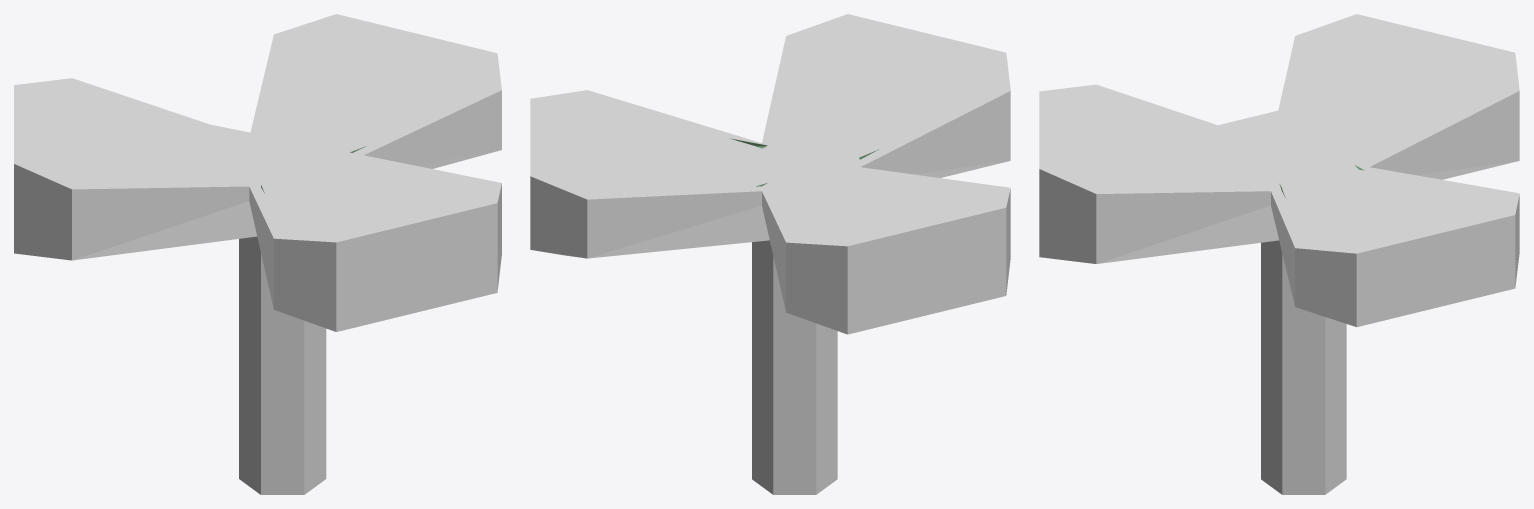
File: resource__plant_clover_3.fbx
3 renders of one model, left to right at view 1: azimuth 30°, elevation 25°; view 2: azimuth 150°, elevation 25°; view 3: azimuth 270°, elevation 25°, orthographic.
Parts seen in each view (by area): view 1: Clover_3; view 2: Clover_3; view 3: Clover_3.
Boxes of the visible parts, left/top/right/bottom form: Clover_3: left=14, top=14, right=501, bottom=494; Clover_3: left=530, top=14, right=1010, bottom=494; Clover_3: left=1039, top=14, right=1519, bottom=494.
Size of the model in its own units: 43.49 by 30.47 by 38.01.
